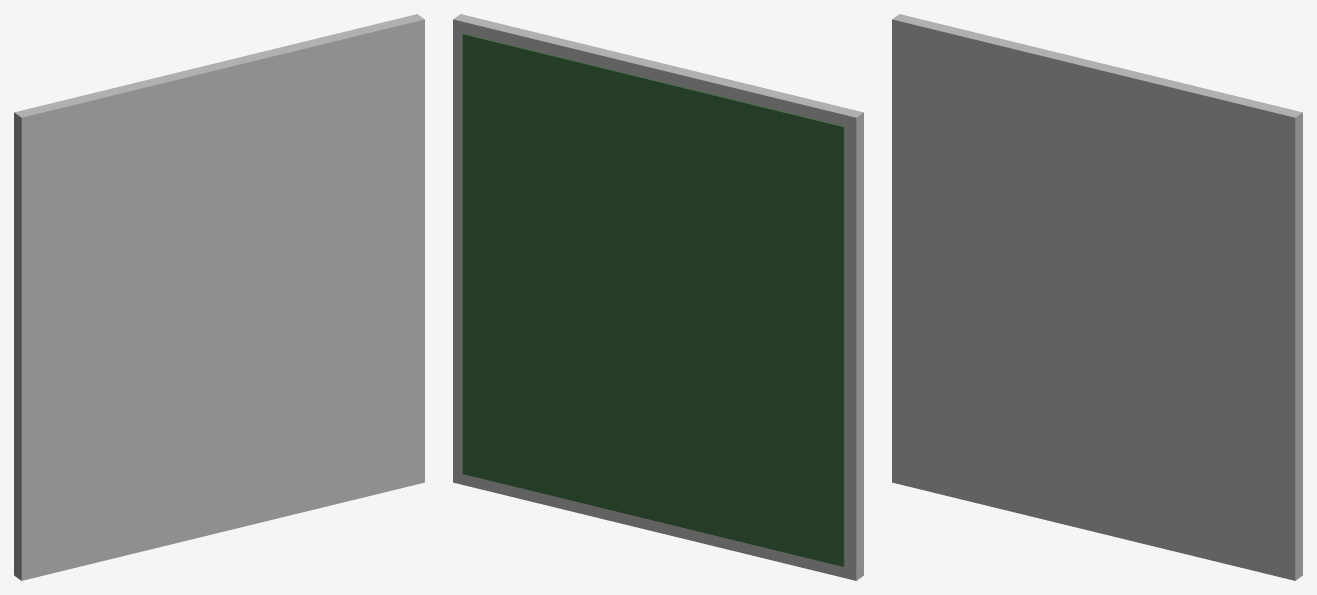
File: BulletinBoard.fbx
The picture shows the model from 3 angles, left to right: view 1: azimuth 30°, elevation 25°; view 2: azimuth 150°, elevation 25°; view 3: azimuth 330°, elevation 25°; orthographic projection.
Parts seen in each view (by area): view 1: 004.bulletin-board-right; view 2: 004.bulletin-board-right; view 3: 004.bulletin-board-right.
Part boxes in pixels (<box>): 004.bulletin-board-right: <box>14,14,424,580</box>; 004.bulletin-board-right: <box>453,14,863,580</box>; 004.bulletin-board-right: <box>892,14,1302,580</box>.
Bounding box in the file's own units: 126 × 138 × 4.47.
